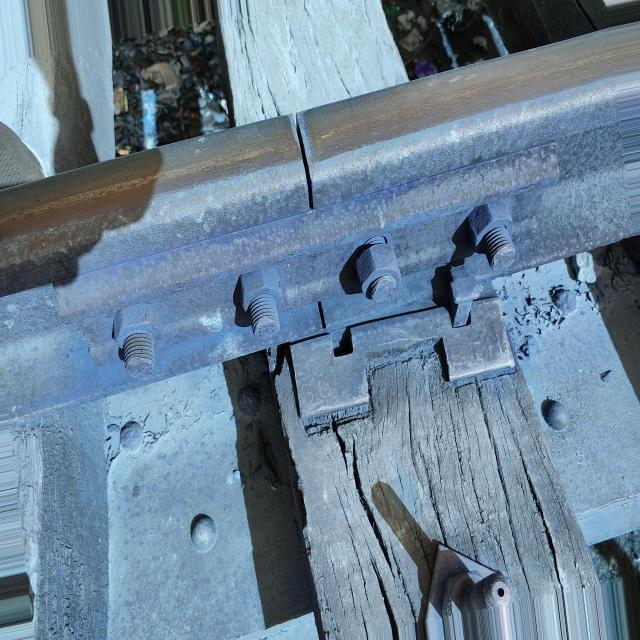Good Joint: (54, 130, 629, 379)
Missing Dogscrew: (330, 327, 353, 357)
